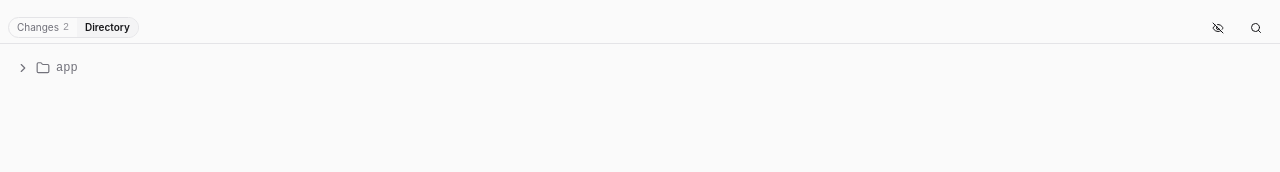
Test: FilesPanel directory mode › refetches the loaded levels when the current session's turn ends
Step 1. Click the button with aria-label "expand app" → (23, 68), box x1=16 y1=54 x2=1238 y2=82
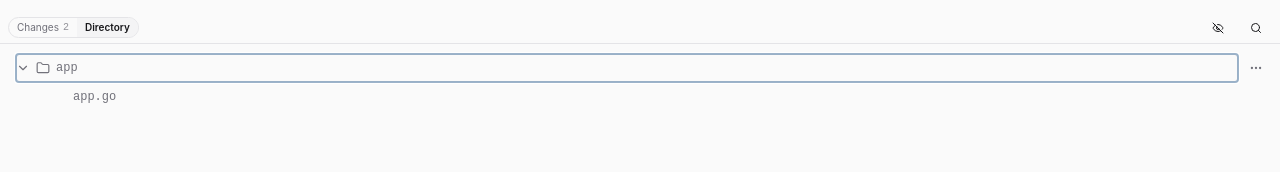
Check: the text "app.go" is shown, box x1=73 y1=88 x2=116 y2=104
Check: the list item named "collapse app" is expanded, box x1=8 y1=54 x2=1272 y2=82
